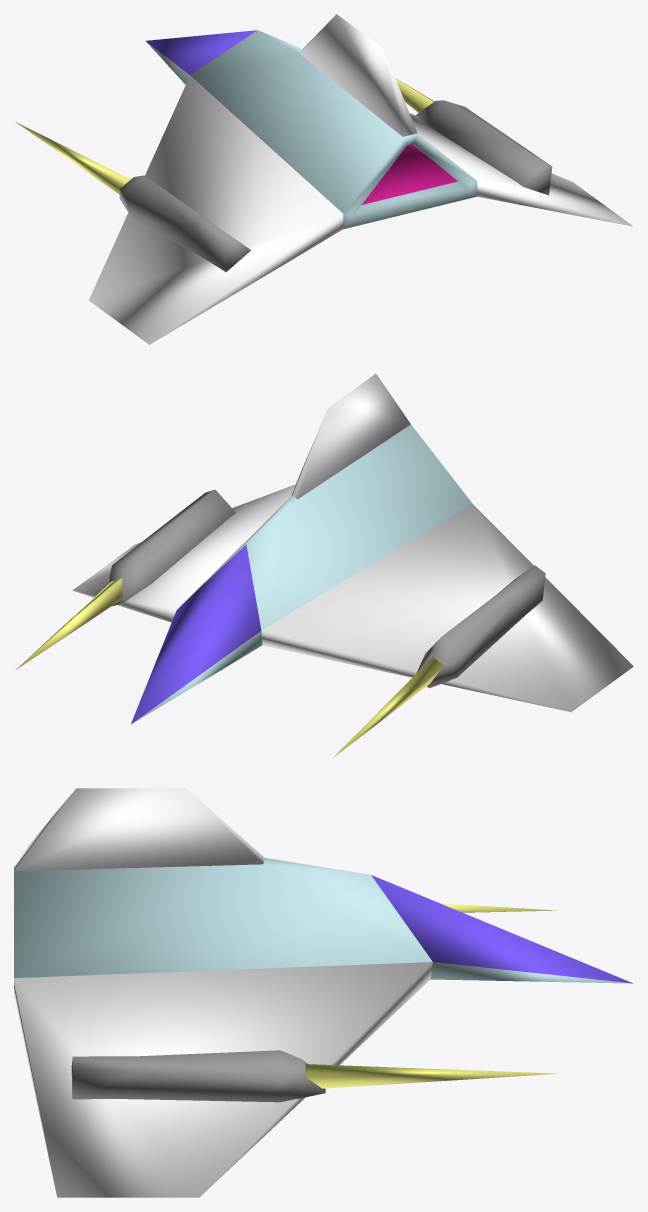
Rendered from Raptor.obj.
3 renders of one model, top to bottom at view 1: azimuth 30°, elevation 25°; view 2: azimuth 150°, elevation 25°; view 3: azimuth 270°, elevation 25°, orthographic. The views are drawn at different scales.
Parts seen in each view (by area): view 1: Body; view 2: Body; view 3: Body.
Boxes of the visible parts, left/top/right/bottom form: Body: left=16, top=14, right=633, bottom=344; Body: left=15, top=373, right=633, bottom=758; Body: left=14, top=788, right=633, bottom=1197.
Size of the model in its own units: 9.21 by 4.2 by 8.72.
